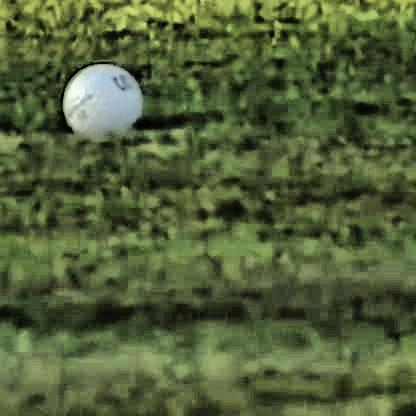golfball: (57, 60, 140, 140)
